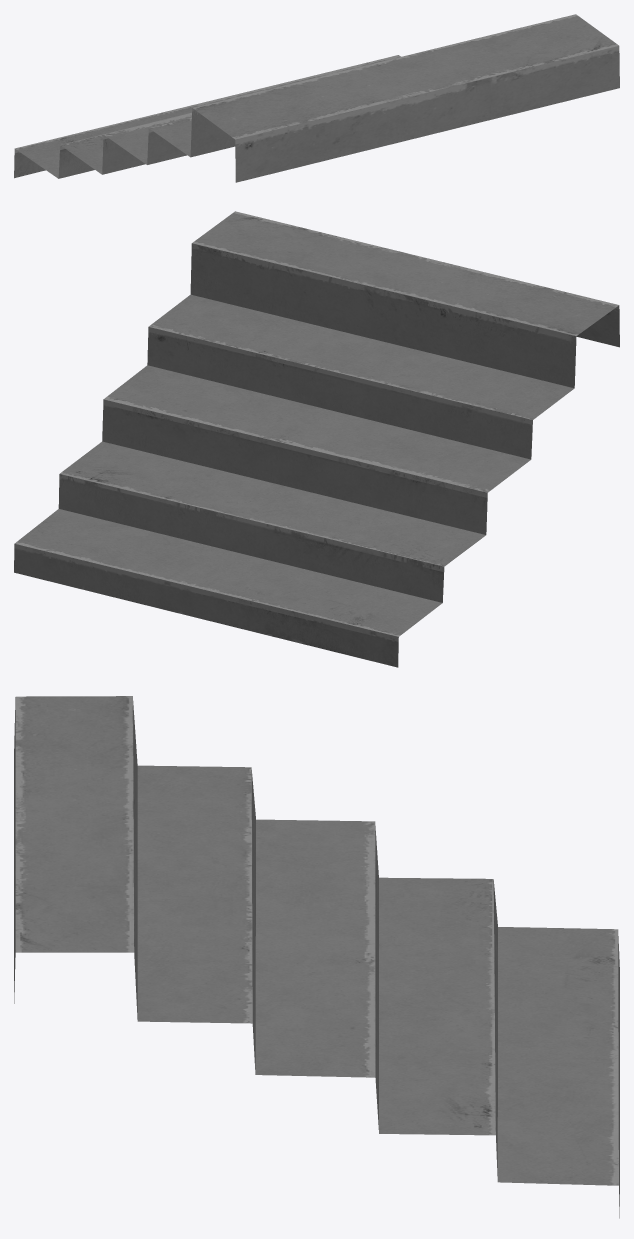
File: SM_Steps_01.fbx
3 views of the same model, one above another, from view 1: azimuth 30°, elevation 25°; view 2: azimuth 150°, elevation 25°; view 3: azimuth 270°, elevation 25° (orthographic). The views are drawn at different scales.
Parts seen in each view (by area): view 1: SM_Steps_01_LOD0; view 2: SM_Steps_01_LOD0; view 3: SM_Steps_01_LOD0.
Part boxes in pixels (x1,y1,x2,y2): SM_Steps_01_LOD0: (14, 14, 619, 182); SM_Steps_01_LOD0: (14, 211, 619, 667); SM_Steps_01_LOD0: (14, 696, 619, 1218).
Size of the model in its own units: 200 by 200 by 99.96.
